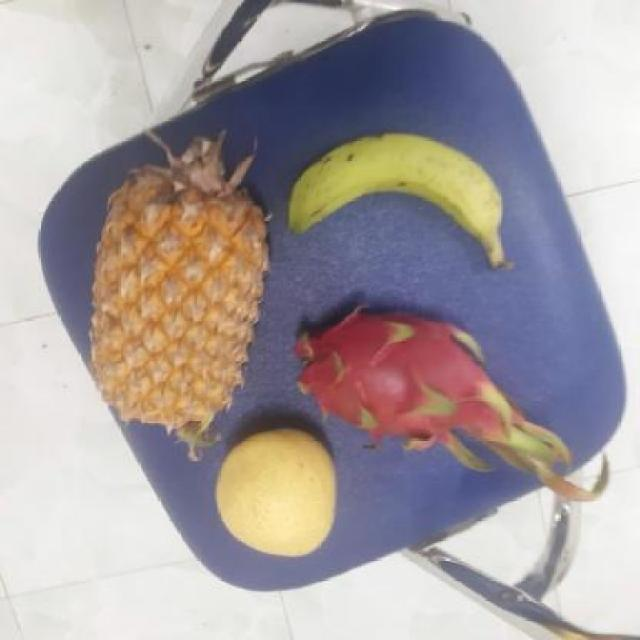banana: (292, 132, 520, 266)
dragon fruit: (293, 302, 524, 450)
pear: (214, 429, 344, 560)
pineapple: (92, 155, 272, 442)
